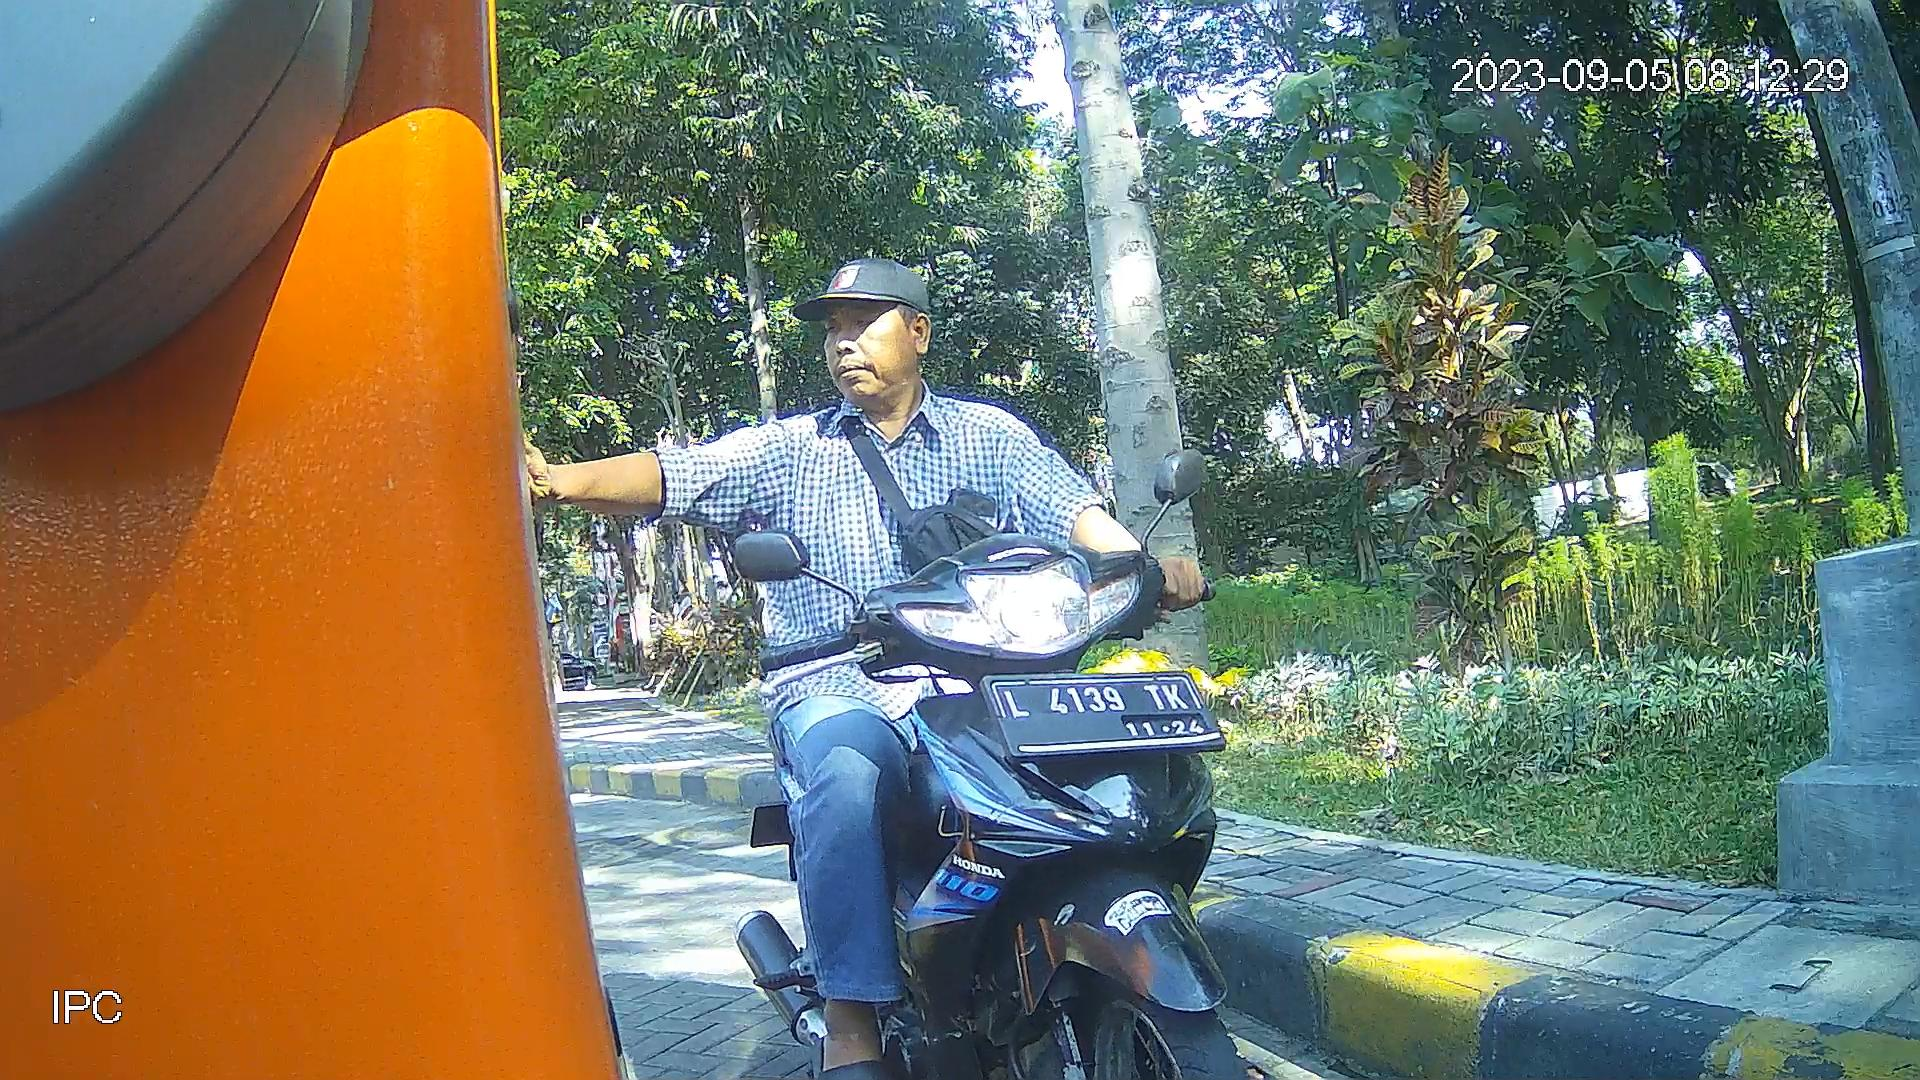plat: (981, 670, 1229, 758)
